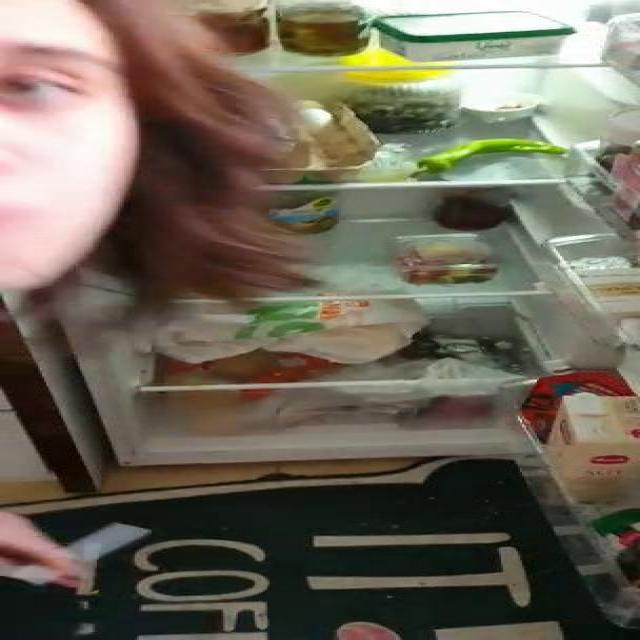cream cheese: (383, 13, 561, 58)
green chilies: (414, 139, 560, 190)
olives: (354, 99, 451, 130)
